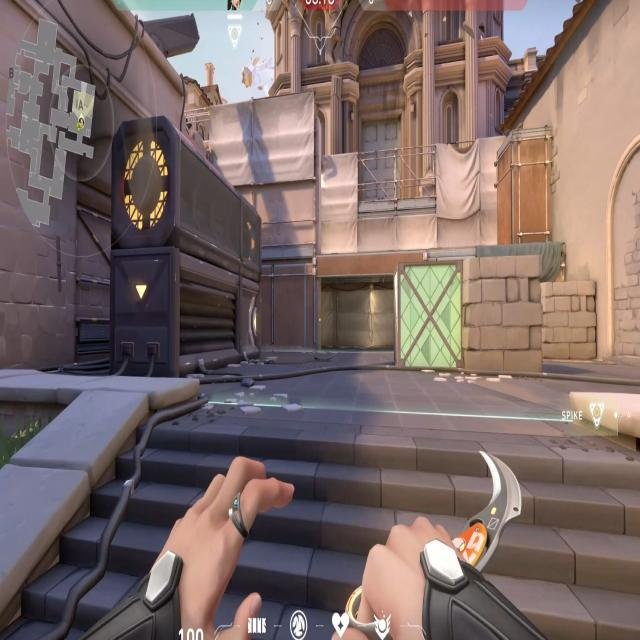A_Heaven_Box: (492, 123, 560, 254)
A_Heaven_Wall: (186, 83, 330, 268)
A_Hell: (299, 243, 433, 359)
A_Site_Box: (389, 246, 547, 382)
